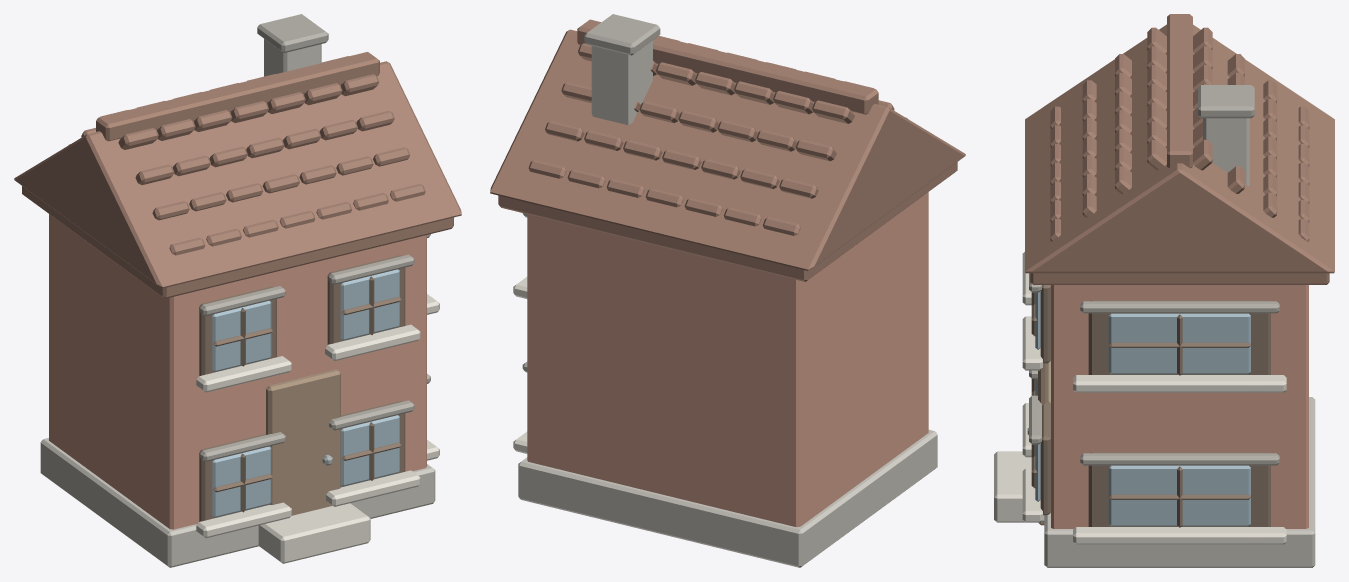
Rendered from townhouse_a.glb.
3 views of the same model, side by side, from view 1: azimuth 30°, elevation 25°; view 2: azimuth 150°, elevation 25°; view 3: azimuth 270°, elevation 25° (orthographic). The views are drawn at different scales.
Visible parts, largest first — view 1: wall, roof, skirt, dframe, ridge, eave, step, wglass.001, wglass.003, wglass.002, wglass, chcap (+20 smaller); view 2: wall, roof, skirt, ridge, eave, chimney, chcap, shingle.049, shingle.050, shingle.052, shingle.053, shingle.051 (+5 smaller); view 3: roof, wall, skirt, wglass.004, wglass.005, ridge, wsill.004, wsill.005, eave, wframe.005, wframe.004, wlintel.004 (+14 smaller).
Part boxes in pixels (x1,y1,x2,y2): wall: (49, 214, 426, 529); roof: (14, 61, 461, 288); skirt: (40, 438, 435, 567); dframe: (266, 369, 340, 515); ridge: (96, 52, 379, 141); eave: (22, 186, 453, 298); step: (258, 503, 370, 563); wglass.001: (340, 415, 399, 486); wglass.003: (340, 269, 399, 340); wglass.002: (212, 300, 271, 371); wglass: (212, 446, 271, 517); chcap: (257, 14, 328, 52); wall: (527, 192, 928, 527); roof: (490, 29, 965, 270); skirt: (518, 429, 937, 567); ridge: (577, 19, 878, 114); eave: (498, 162, 957, 281); chimney: (591, 40, 652, 125); chcap: (584, 14, 660, 55); shingle.049: (812, 100, 854, 123); shingle.050: (773, 91, 813, 114); shingle.052: (695, 72, 735, 95); shingle.053: (656, 62, 696, 85); shingle.051: (734, 81, 774, 104); roof: (1025, 24, 1334, 273); wall: (1051, 285, 1308, 528); skirt: (1044, 397, 1315, 567); wglass.004: (1108, 465, 1250, 526); wglass.005: (1108, 313, 1250, 374); ridge: (1167, 14, 1192, 167); wsill.004: (1073, 527, 1286, 544); wsill.005: (1073, 375, 1286, 392); eave: (1030, 273, 1329, 284); wframe.005: (1088, 300, 1270, 374); wframe.004: (1088, 452, 1270, 526); wlintel.004: (1080, 453, 1279, 465).
Size of the model in its own units: 1.42 by 1.93 by 1.32.
